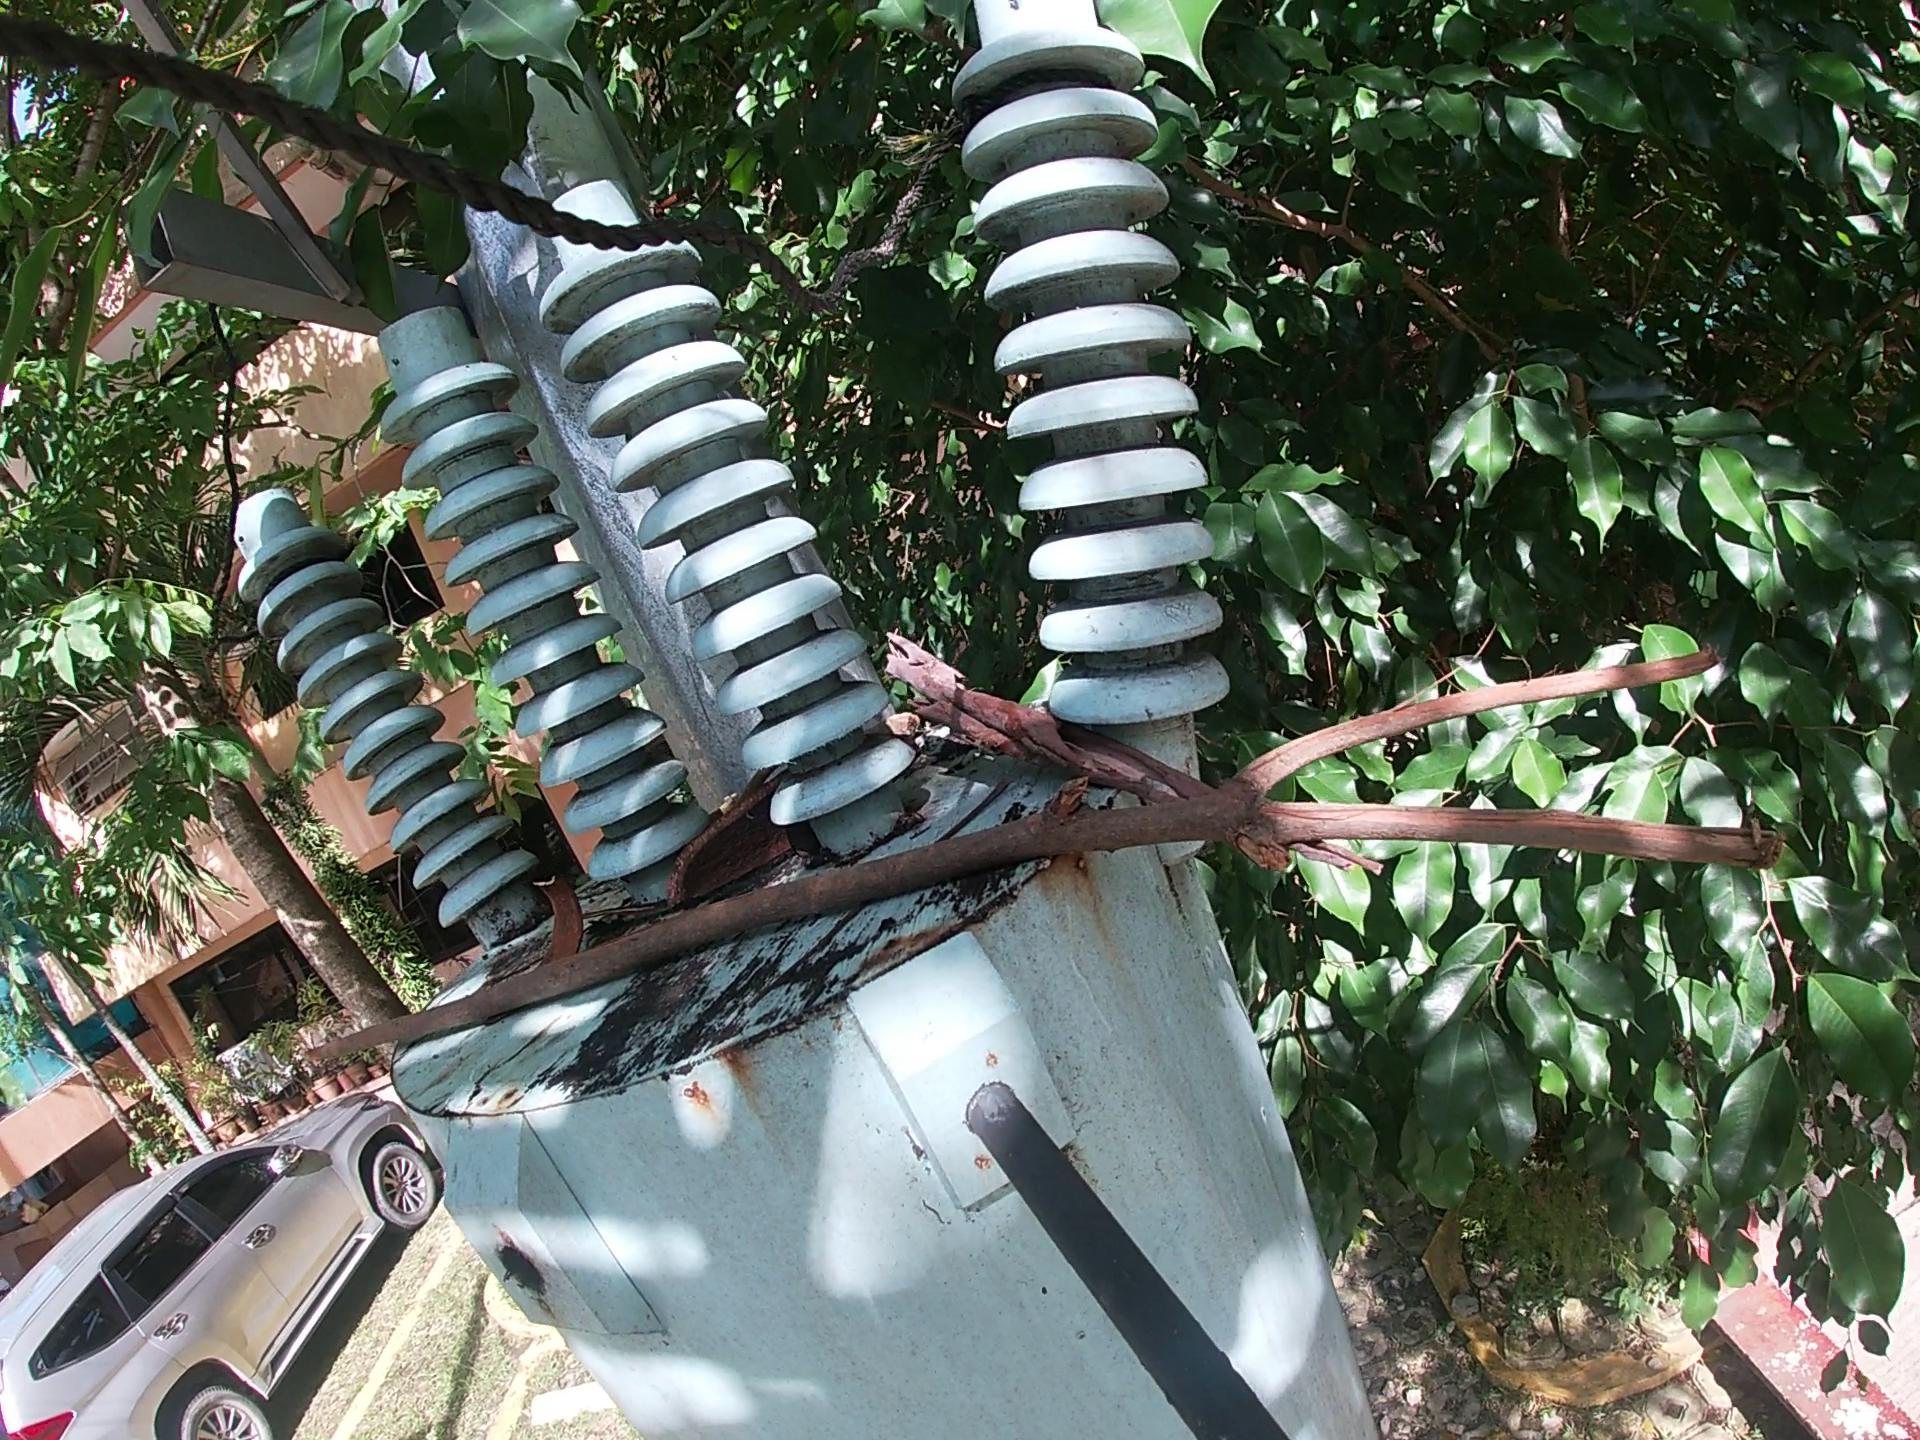mahogany fruit: (659, 762, 812, 914), (526, 868, 588, 970)
tree branch: (289, 641, 1791, 1095), (881, 628, 1391, 892)
